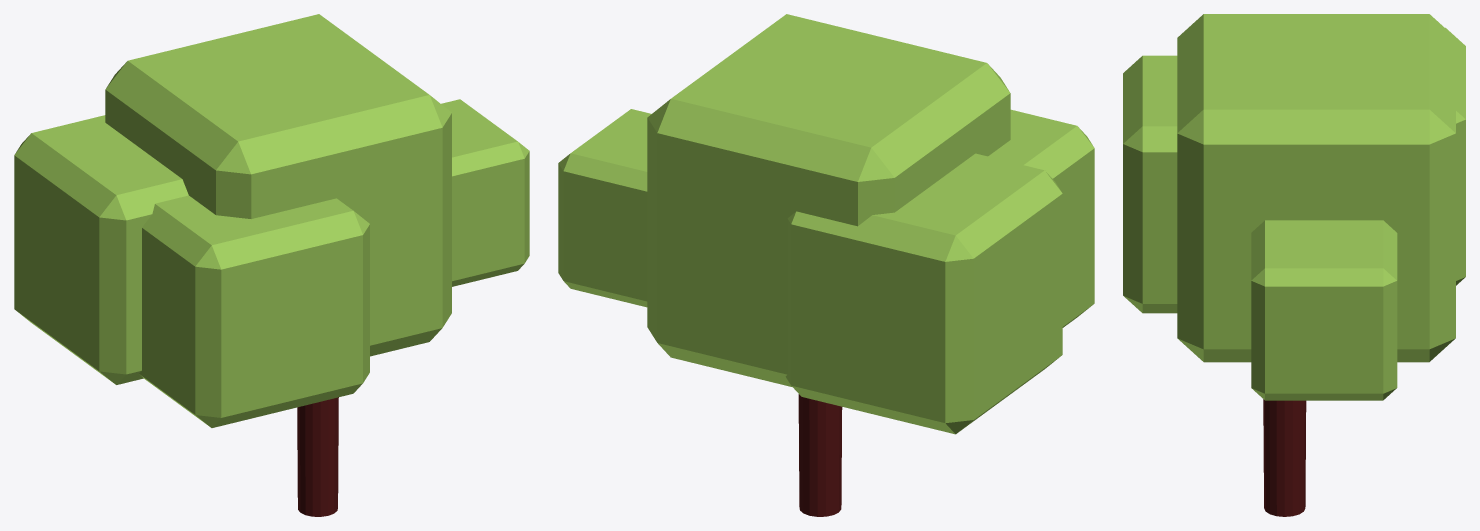
The model's file is tree.glb.
The picture shows the model from 3 angles, left to right: view 1: azimuth 30°, elevation 25°; view 2: azimuth 150°, elevation 25°; view 3: azimuth 270°, elevation 25°; orthographic projection. The views are drawn at different scales.
Visible parts, largest first — view 1: Cube.002, Cube.001, Cube.003, Cube, Cylinder; view 2: Cube.002, Cube.003, Cube, Cube.001, Cylinder; view 3: Cube.002, Cube, Cube.001, Cylinder, Cube.003.
Part boxes in pixels (x1=…): Cube.002: x1=105, y1=14, x2=451, y2=356; Cube.001: x1=139, y1=195, x2=369, y2=427; Cube.003: x1=14, y1=115, x2=188, y2=384; Cube: x1=441, y1=99, x2=529, y2=286; Cylinder: x1=297, y1=397, x2=338, y2=516; Cube.002: x1=647, y1=14, x2=1010, y2=386; Cube.003: x1=785, y1=153, x2=1062, y2=434; Cube: x1=558, y1=109, x2=651, y2=307; Cube.001: x1=988, y1=109, x2=1094, y2=327; Cylinder: x1=798, y1=394, x2=842, y2=516; Cube.002: x1=1177, y1=14, x2=1455, y2=362; Cube: x1=1251, y1=220, x2=1397, y2=400; Cube.001: x1=1123, y1=55, x2=1177, y2=313; Cylinder: x1=1263, y1=399, x2=1306, y2=516; Cube.003: x1=1445, y1=27, x2=1465, y2=285.
Bounding box in the file's own units: 4.87 × 4.63 × 3.31.
